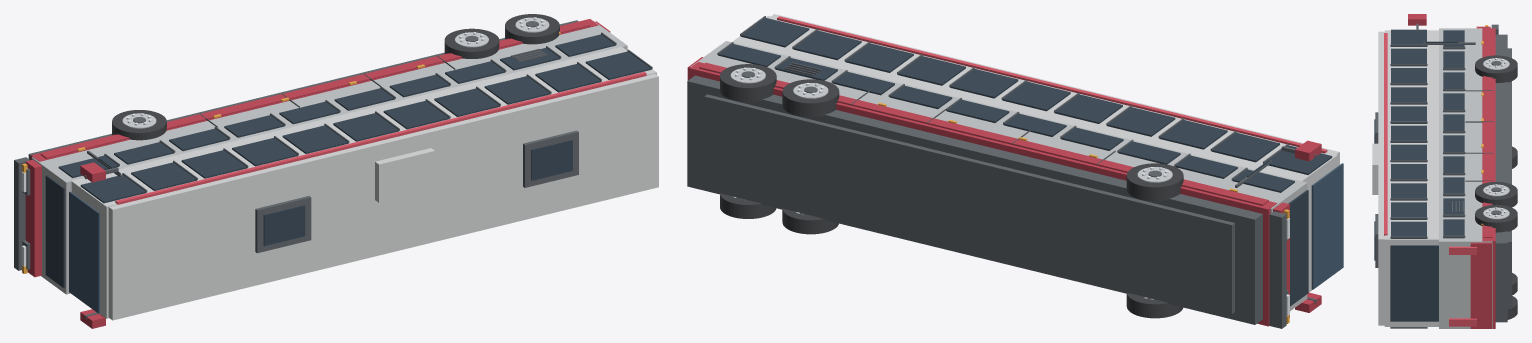
The model's file is zafer_d_deck_detailed.glb.
3 renders of one model, left to right at view 1: azimuth 30°, elevation 25°; view 2: azimuth 150°, elevation 25°; view 3: azimuth 270°, elevation 25°, orthographic. The views are drawn at different scales.
Parts seen in each view (by area): view 1: Roof cap, Lower passenger body, Upper deck shell, Lower red side skirt_1, Front upper panoramic windshield, Upper red roofline_1, Roof HVAC unit, Front lower windshield, Front fascia, Hatch glass, Hatch glass_1, Roof service hatch (+28 smaller); view 2: Bottom belly, Undercarriage, Upper deck shell, Lower passenger body, Lower red sill, Front upper panoramic windshield, Lower red side skirt_1, Upper red roofline_1, Front bumper, Front lower windshield, Tire 1 0, Tire 1 1 (+26 smaller); view 3: Lower passenger body, Upper deck shell, Rear glass, Undercarriage, Roof cap, Rear red panel, Lower red side skirt_1, Lower red sill, Bottom belly, Upper red roofline_1, Tire 1 0, Tire 1 2 (+33 smaller).
Boxes of the visible parts, x1=… form: Roof cap: x1=108, y1=73, x2=658, y2=320; Lower passenger body: x1=32, y1=20, x2=627, y2=294; Upper deck shell: x1=71, y1=47, x2=656, y2=318; Lower red side skirt_1: x1=40, y1=20, x2=590, y2=158; Front upper panoramic windshield: x1=69, y1=191, x2=99, y2=313; Upper red roofline_1: x1=115, y1=72, x2=646, y2=204; Roof HVAC unit: x1=375, y1=148, x2=434, y2=202; Front lower windshield: x1=45, y1=175, x2=65, y2=287; Front fascia: x1=25, y1=159, x2=41, y2=277; Hatch glass: x1=263, y1=205, x2=305, y2=245; Hatch glass_1: x1=531, y1=139, x2=572, y2=180; Roof service hatch: x1=255, y1=196, x2=311, y2=253; Bottom belly: x1=704, y1=94, x2=1234, y2=313; Undercarriage: x1=687, y1=75, x2=1262, y2=324; Upper deck shell: x1=732, y1=16, x2=1337, y2=291; Lower passenger body: x1=691, y1=41, x2=1307, y2=310; Lower red sill: x1=689, y1=62, x2=1277, y2=326; Front upper panoramic windshield: x1=1311, y1=163, x2=1343, y2=289; Lower red side skirt_1: x1=699, y1=62, x2=1268, y2=205; Upper red roofline_1: x1=777, y1=16, x2=1327, y2=153; Front bumper: x1=1269, y1=211, x2=1286, y2=328; Front lower windshield: x1=1288, y1=190, x2=1308, y2=306; Tire 1 0: x1=1126, y1=163, x2=1183, y2=201; Tire 1 1: x1=782, y1=79, x2=839, y2=117; Lower passenger body: x1=1439, y1=28, x2=1492, y2=328; Upper deck shell: x1=1384, y1=30, x2=1439, y2=326; Rear glass: x1=1390, y1=245, x2=1438, y2=321; Undercarriage: x1=1495, y1=34, x2=1507, y2=322; Roof cap: x1=1378, y1=31, x2=1384, y2=325; Rear red panel: x1=1470, y1=242, x2=1491, y2=328; Lower red side skirt_1: x1=1483, y1=30, x2=1492, y2=237; Lower red sill: x1=1482, y1=28, x2=1495, y2=328; Bottom belly: x1=1507, y1=48, x2=1511, y2=308; Upper red roofline_1: x1=1384, y1=33, x2=1387, y2=235; Tire 1 0: x1=1475, y1=55, x2=1517, y2=82; Tire 1 2: x1=1475, y1=204, x2=1517, y2=232.
Size of the model in its own units: 13.45 by 3.42 by 3.75.
